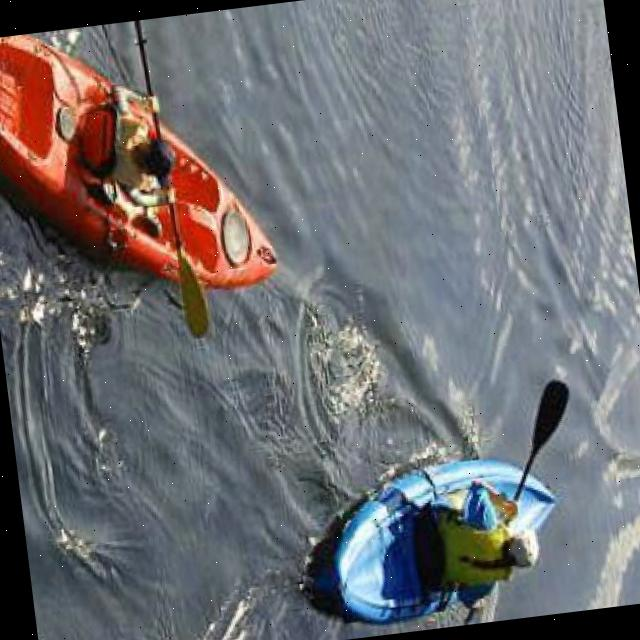kayak: (0, 34, 278, 336), (312, 381, 568, 625)
